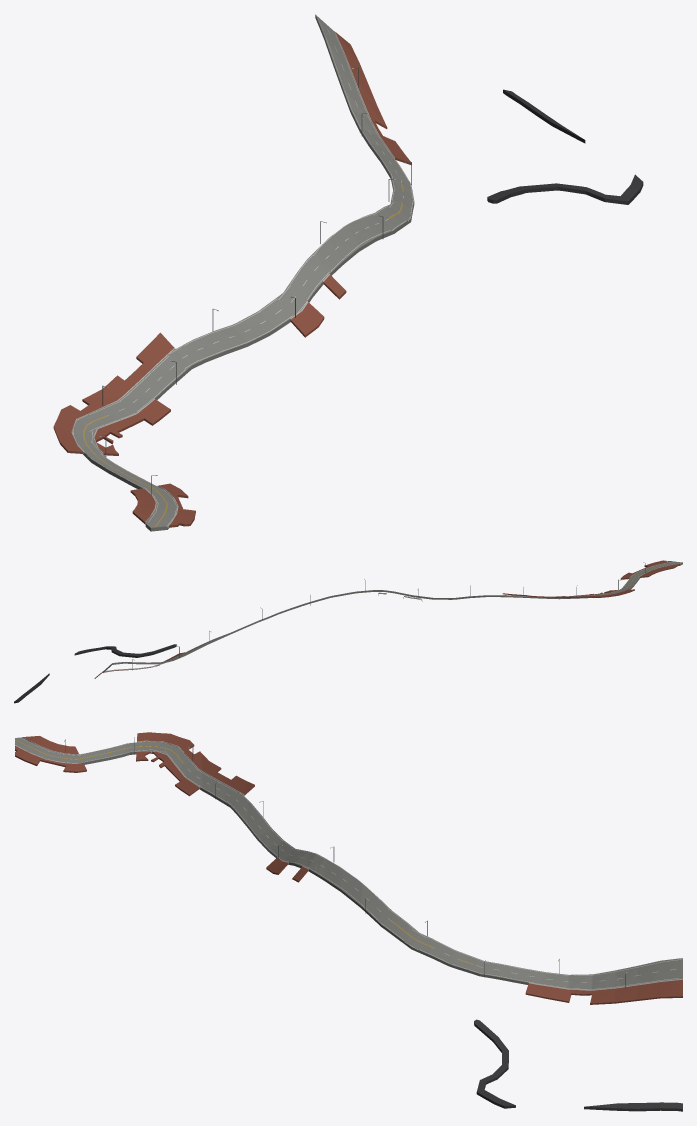
The picture shows the model from 3 angles, top to bottom: view 1: azimuth 30°, elevation 25°; view 2: azimuth 150°, elevation 25°; view 3: azimuth 270°, elevation 25°; orthographic projection. The views are drawn at different scales.
Bounding box in the file's own units: 293 × 55.86 × 292.
